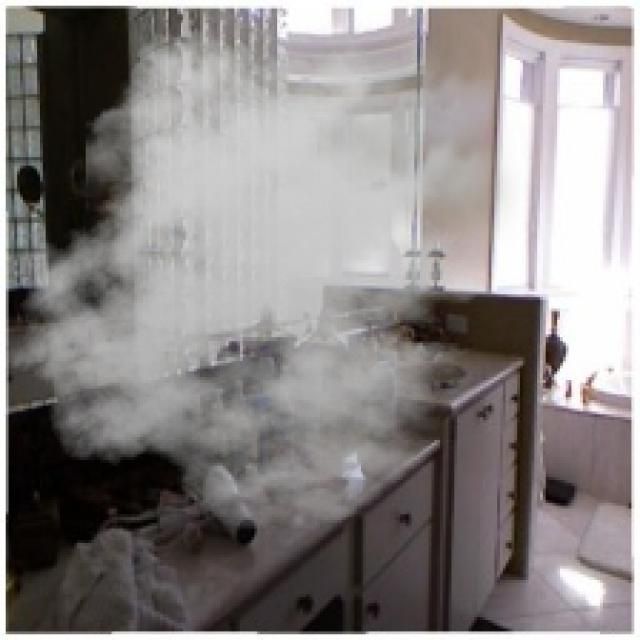smoke: (6, 14, 526, 532)
